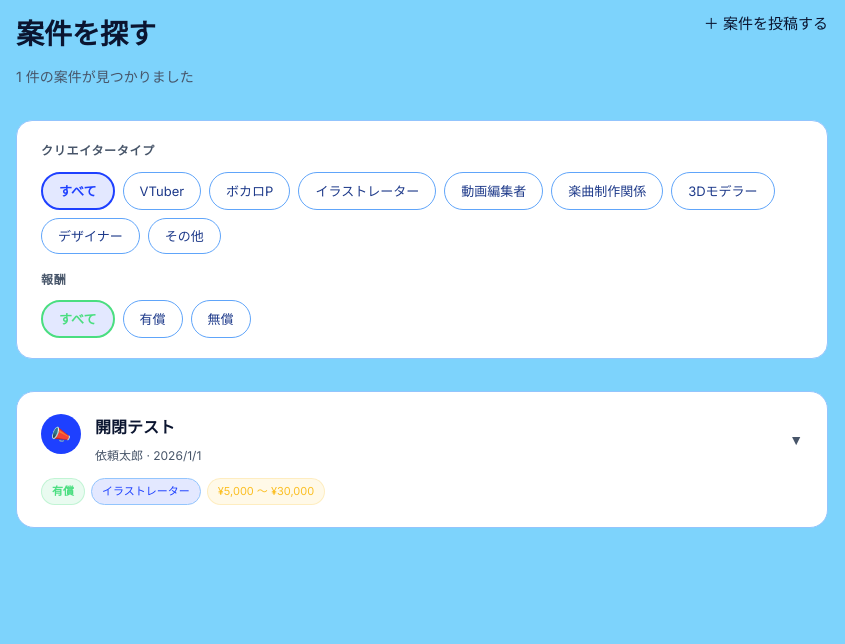
Test case: JobListingsClient › [happy] 展開したカードを再クリックで閉じる
Click the text "開閉テスト".
click(422, 460)  # box [16,392,828,528]
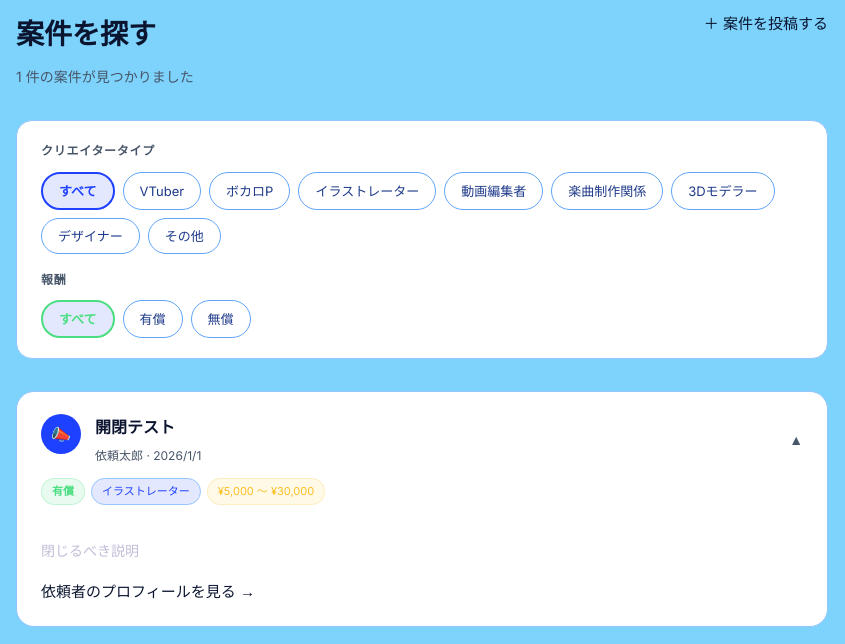
Expected: the text "閉じるべき説明" is shown, [41,542,139,559]
Click the text "開閉テスト".
click(422, 510)  # box [16,392,828,628]
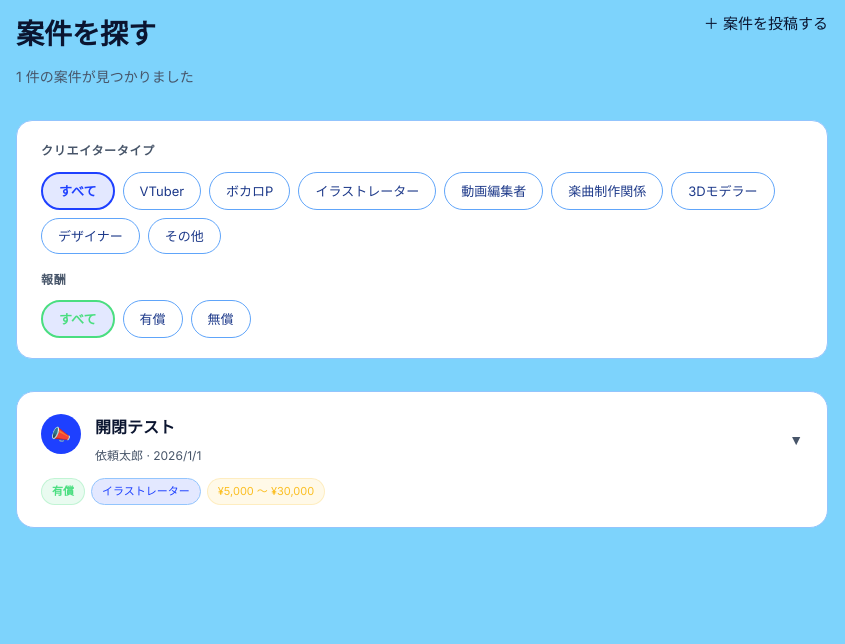
Expected: the text "閉じるべき説明" is gone
